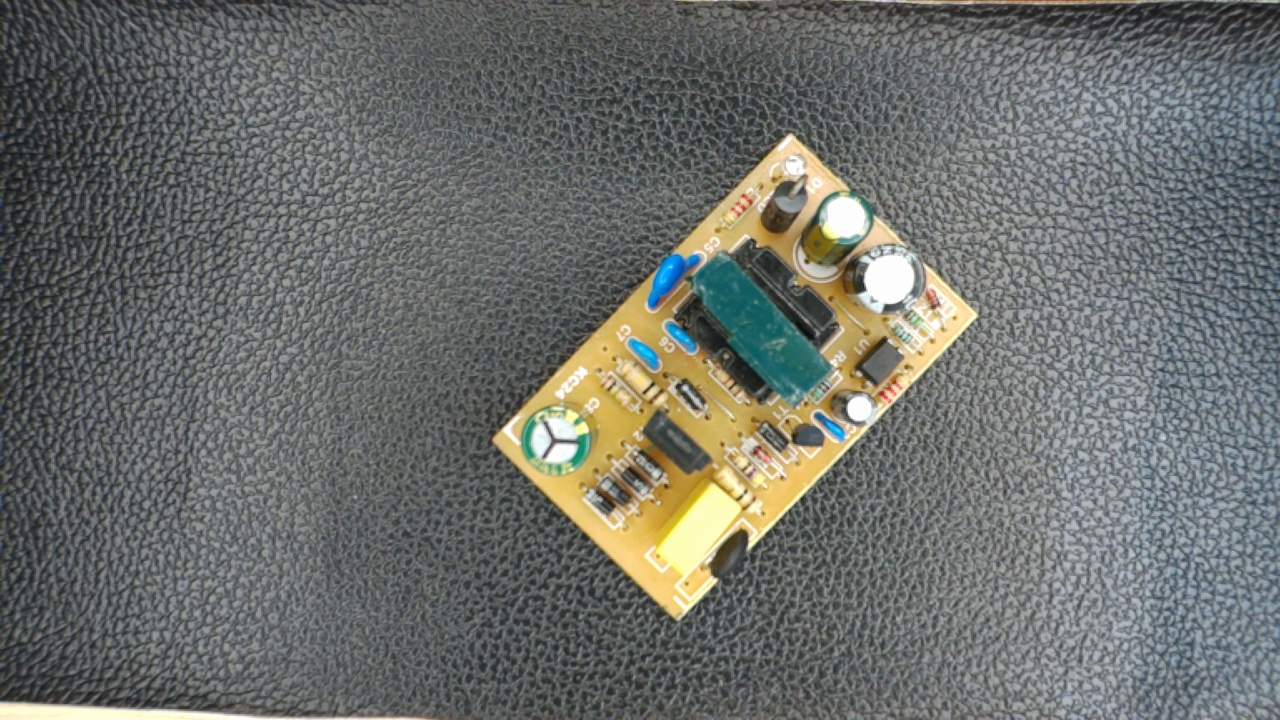fuse: (693, 528, 758, 585)
hv_capacitor: (515, 402, 597, 477)
mov: (644, 251, 704, 314)
optocoupler: (848, 333, 906, 390)
